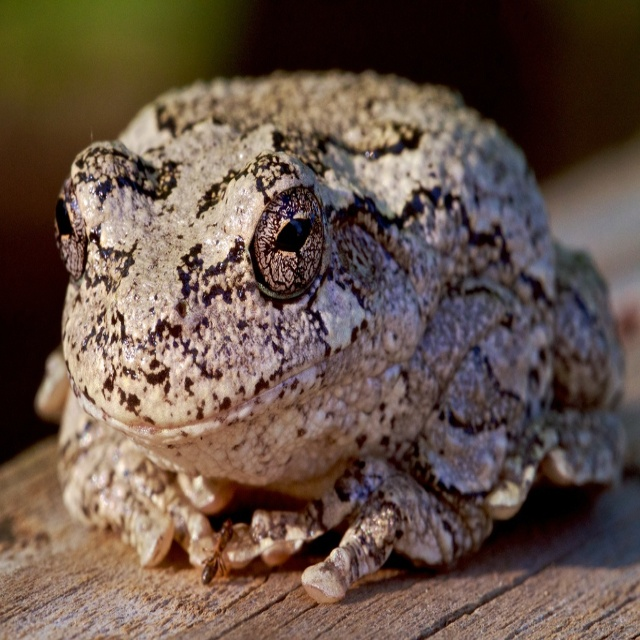Frog: (31, 67, 627, 605)
